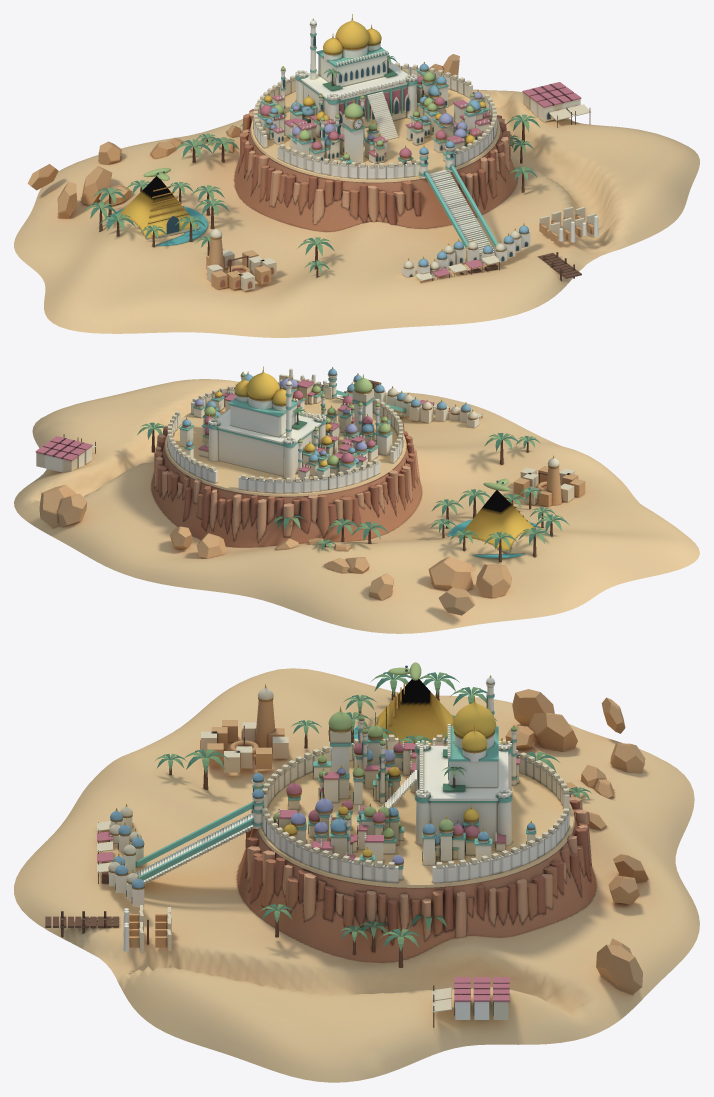
File: alabasta-baked.glb
3 renders of one model, top to bottom at view 1: azimuth 30°, elevation 25°; view 2: azimuth 150°, elevation 25°; view 3: azimuth 270°, elevation 25°, orthographic. The views are drawn at different scales.
Parts seen in each view (by area): view 1: Alabasta_baked; view 2: Alabasta_baked; view 3: Alabasta_baked.
Boxes of the visible parts, bbox=[...] form: Alabasta_baked: bbox=[14, 14, 699, 337]; Alabasta_baked: bbox=[14, 366, 699, 633]; Alabasta_baked: bbox=[14, 662, 699, 1082].
Bounding box in the file's own units: 90.58 × 21.68 × 64.08.
1 material, 1 textured.
